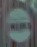No overtake: (3, 5, 34, 46)
